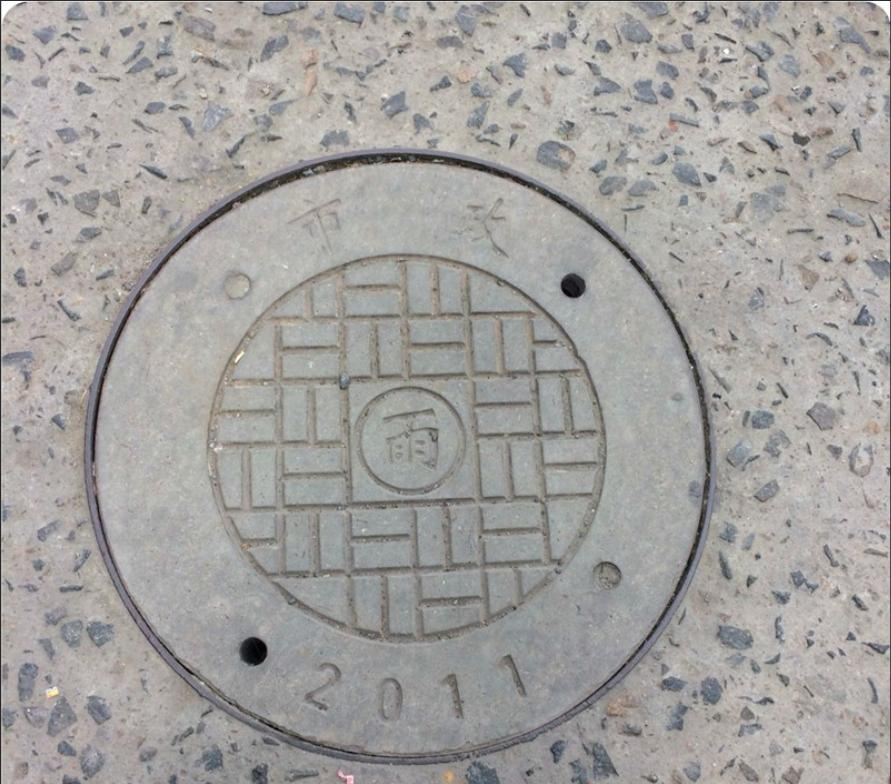wellcover: (69, 149, 748, 763)
